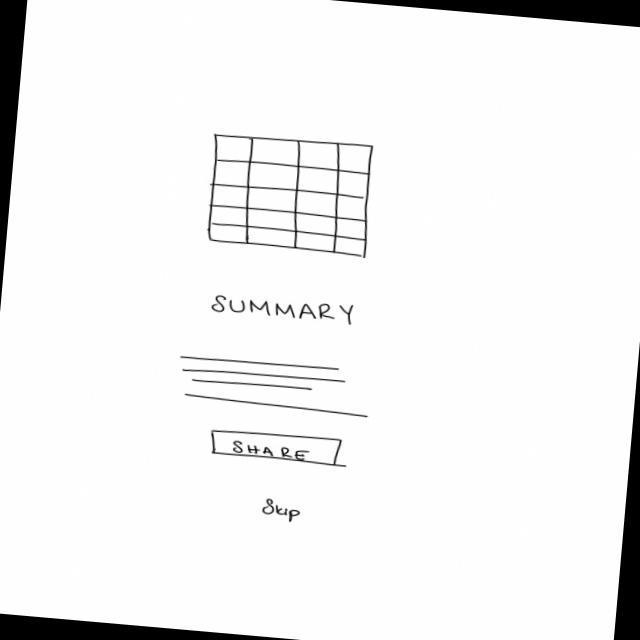button: (209, 427, 346, 470)
label: (210, 291, 359, 328), (259, 497, 305, 525)
table: (205, 130, 379, 261)
textbox: (174, 352, 375, 419)
